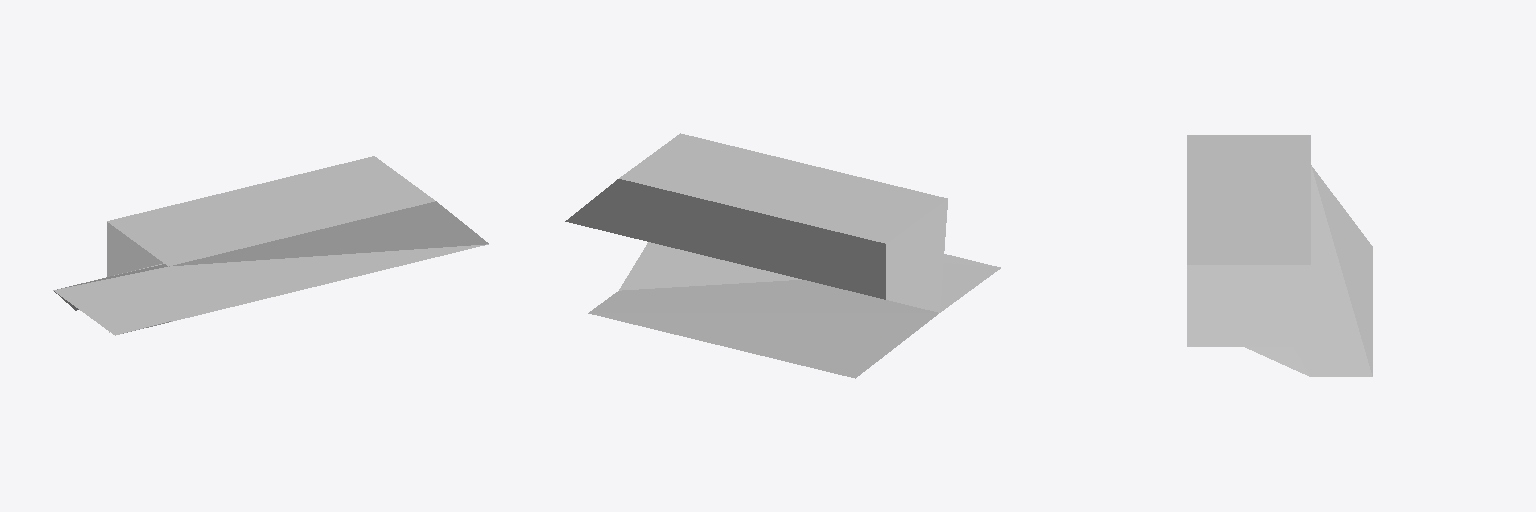
The model's file is PlayerSideLaserCannon.obj.
3 renders of one model, left to right at view 1: azimuth 30°, elevation 25°; view 2: azimuth 150°, elevation 25°; view 3: azimuth 270°, elevation 25°, orthographic.
Bounding box in the file's own units: 7 × 2 × 3.